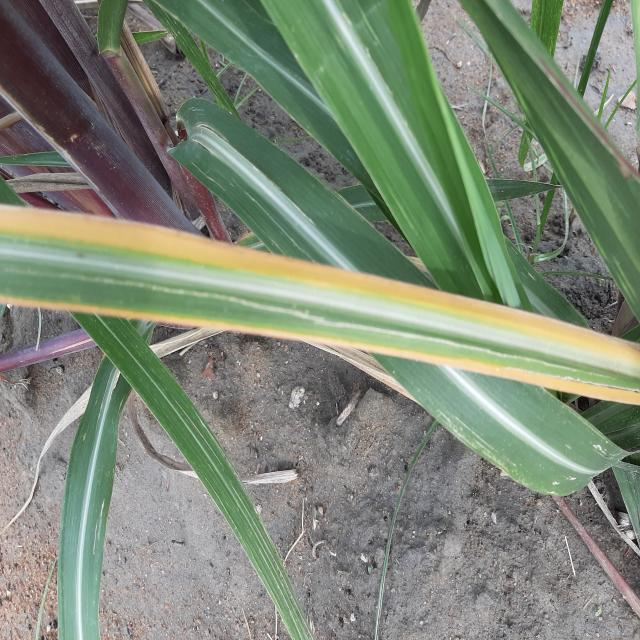Sugarcane: (1, 1, 638, 637)
